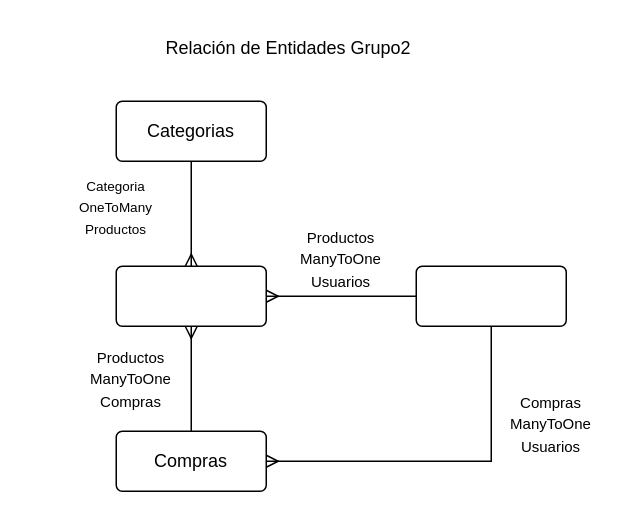
This 621x518 diagram has some shape labels left out. Here are the shapes that lost their labels. From the top down, the box of each, then its label:
(115, 265, 266, 326): Productos
(415, 265, 566, 326): Usuarios
